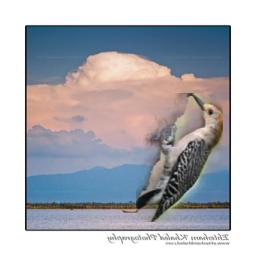Woodpecker: (136, 93, 223, 222)
